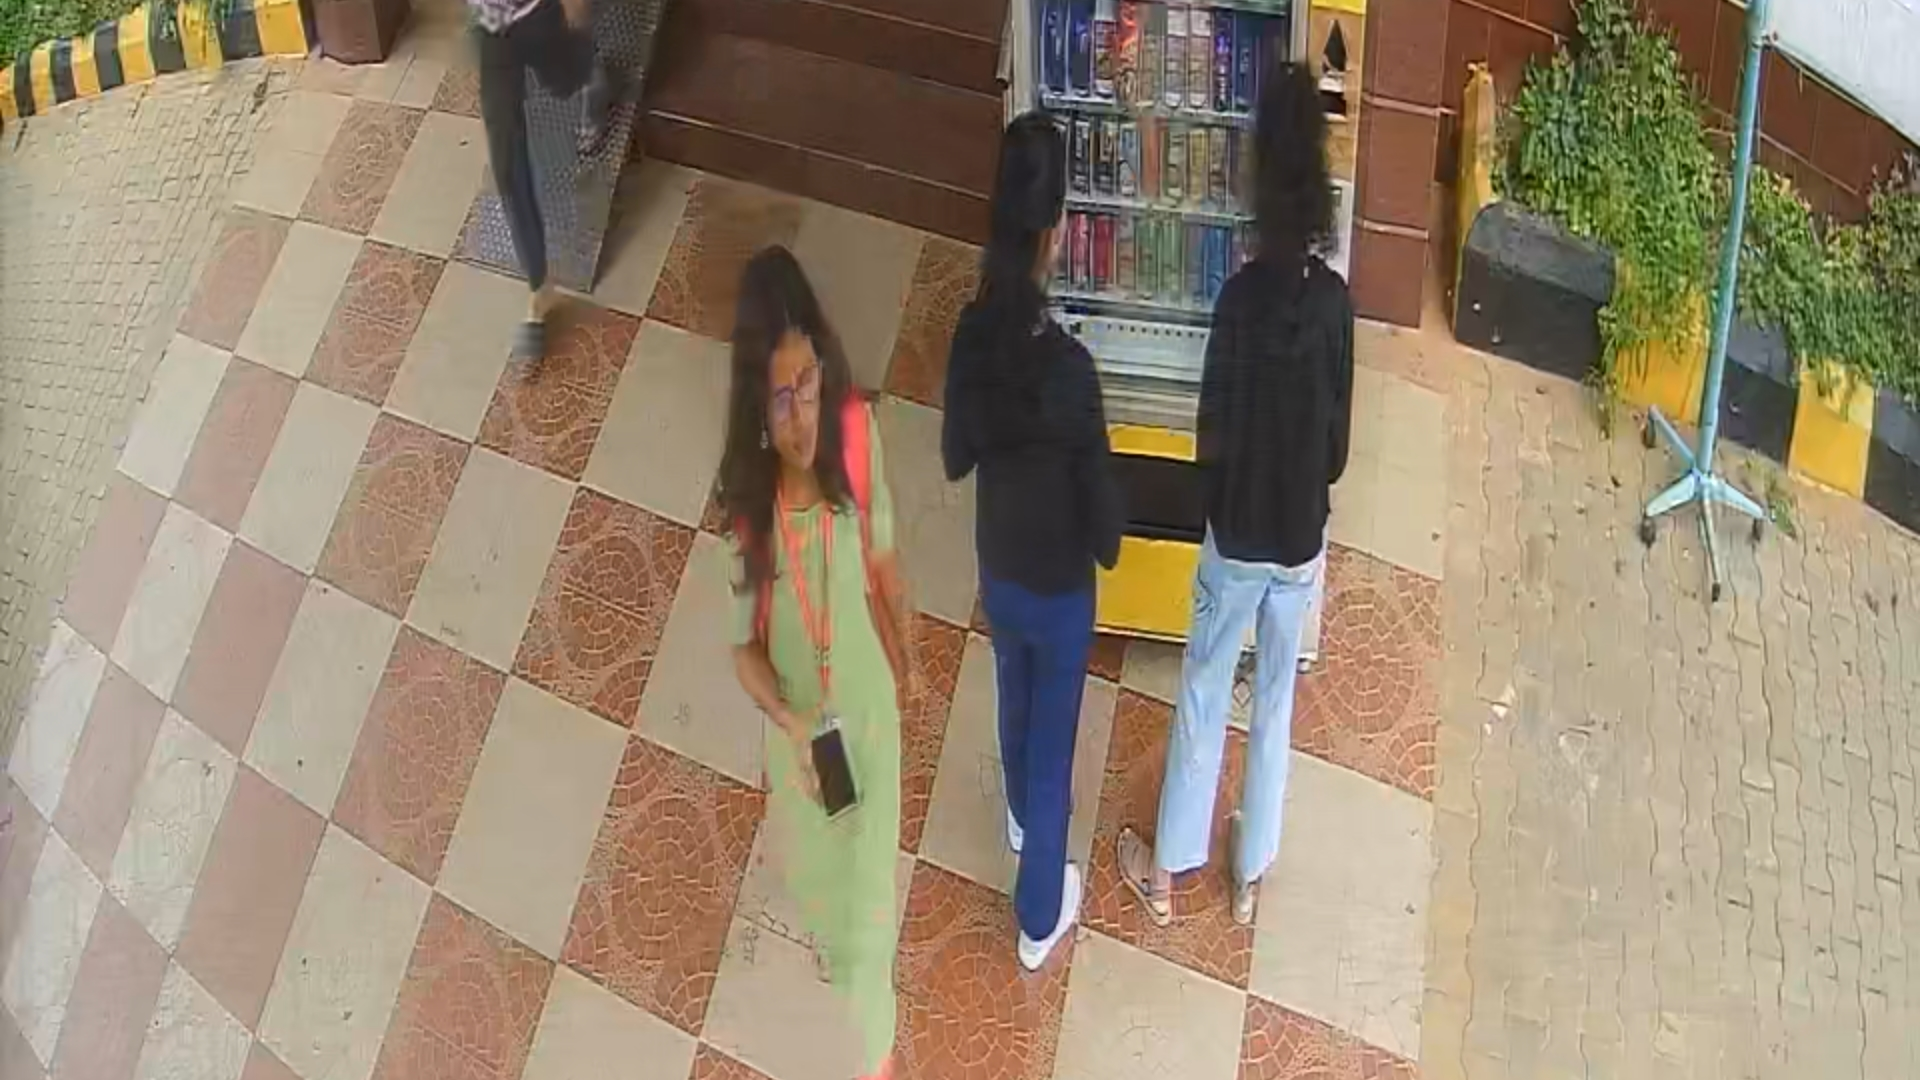not intruder: (702, 237, 916, 1080)
